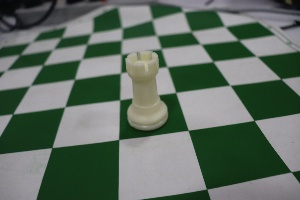white_rook: (116, 41, 175, 144)
